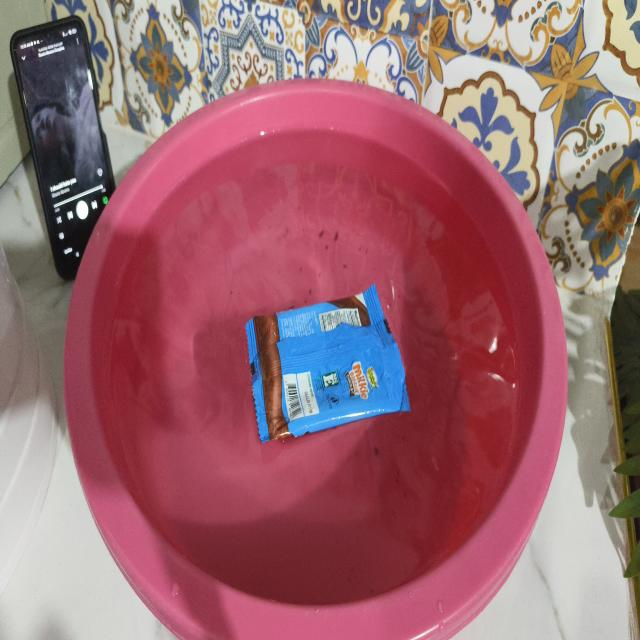Plastic Wrapper: (246, 284, 410, 443)
